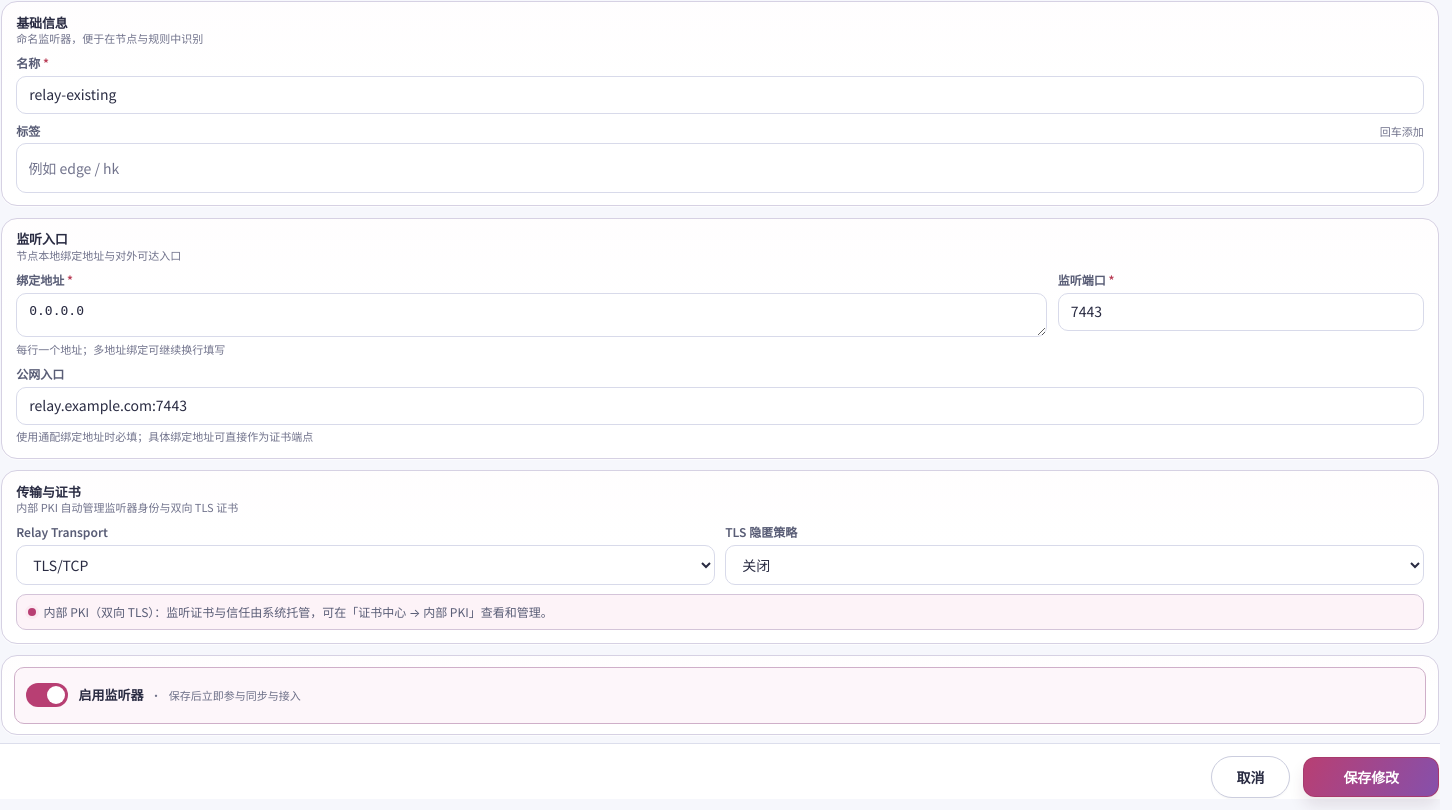
RelayListenerForm transport behavior › still validates the endpoint when editing a PKI listener
Clear the field with placeholder "relay.example.com:7443" below "公网入口". click: (720, 406)
box: [16, 387, 1424, 424]
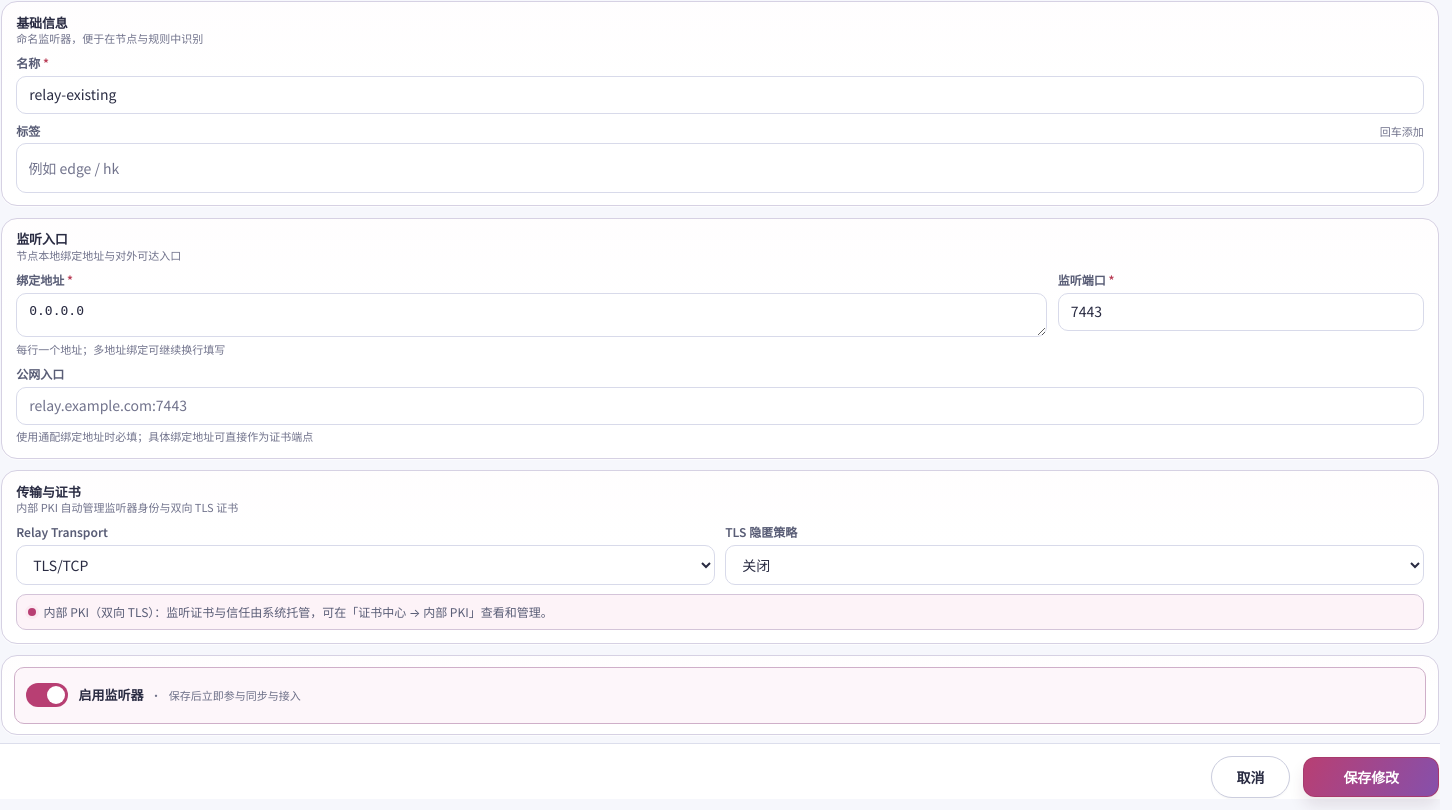
Submit the form
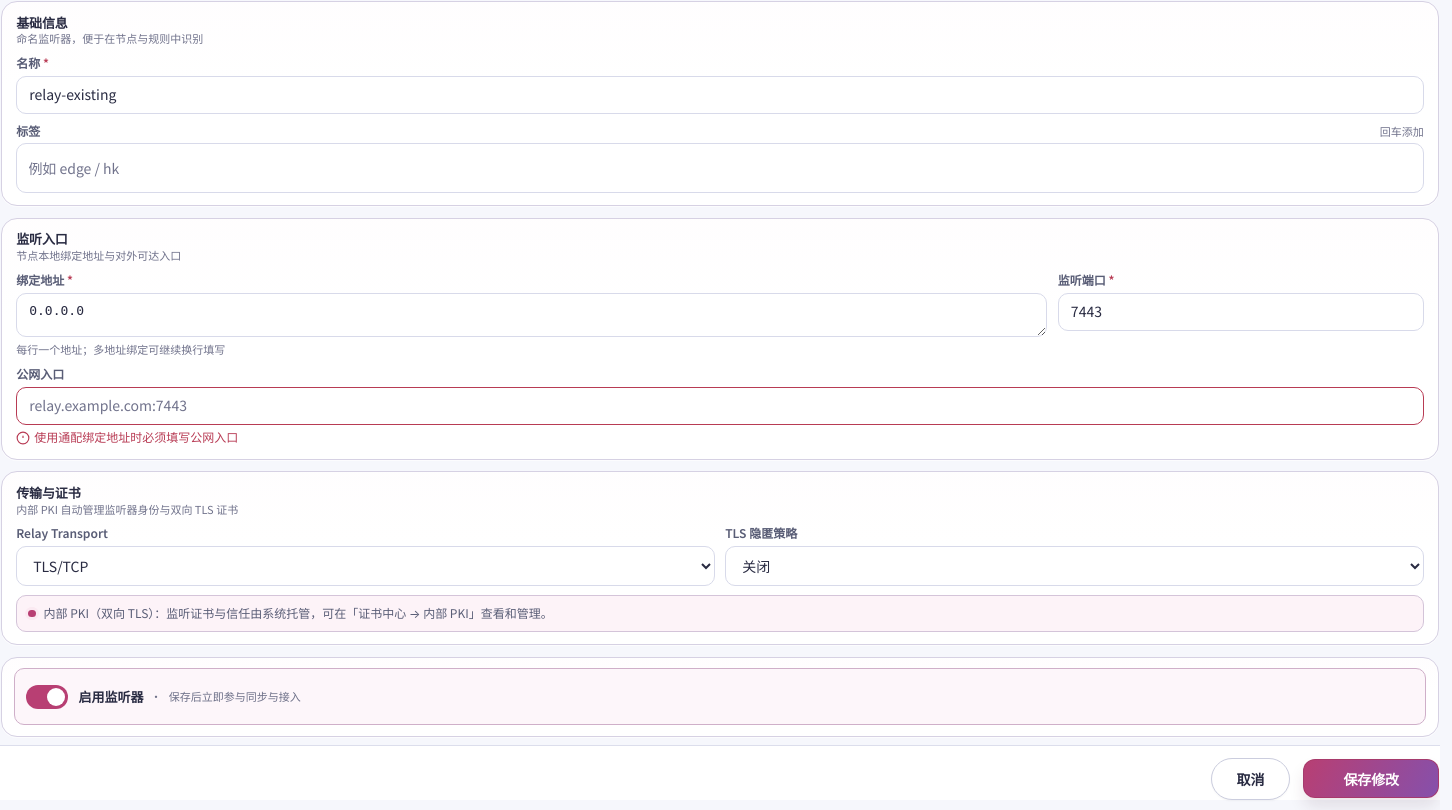
Check: the form shows "使用通配绑定地址时必须填写公网入口", box [34, 428, 238, 445]
